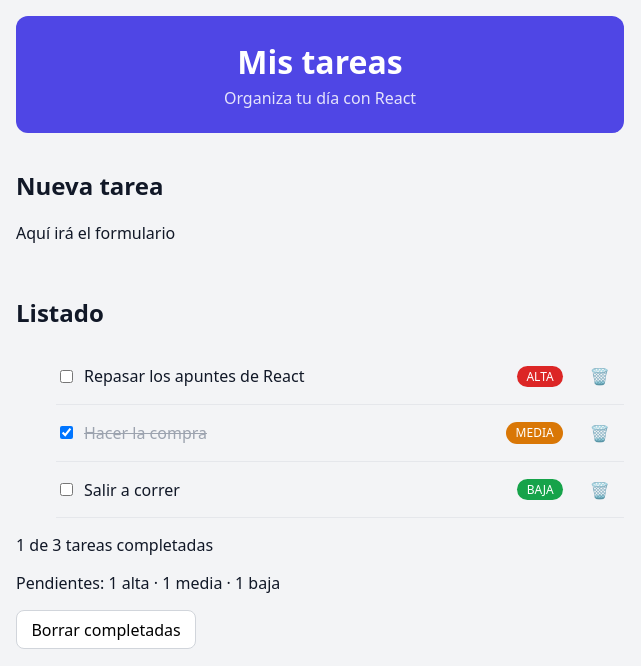
Test: App › borra una tarea
Click the button named "Borrar Hacer la compra" at (600, 433), box [575, 415, 624, 451]
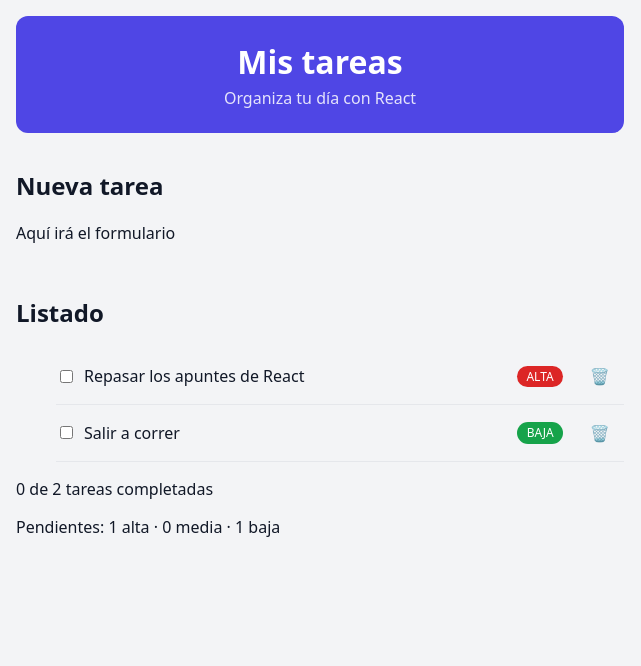
Result: the text "Hacer la compra" is gone
Result: the number of list items is 2 at [56, 349, 624, 405]; [56, 405, 624, 462]
